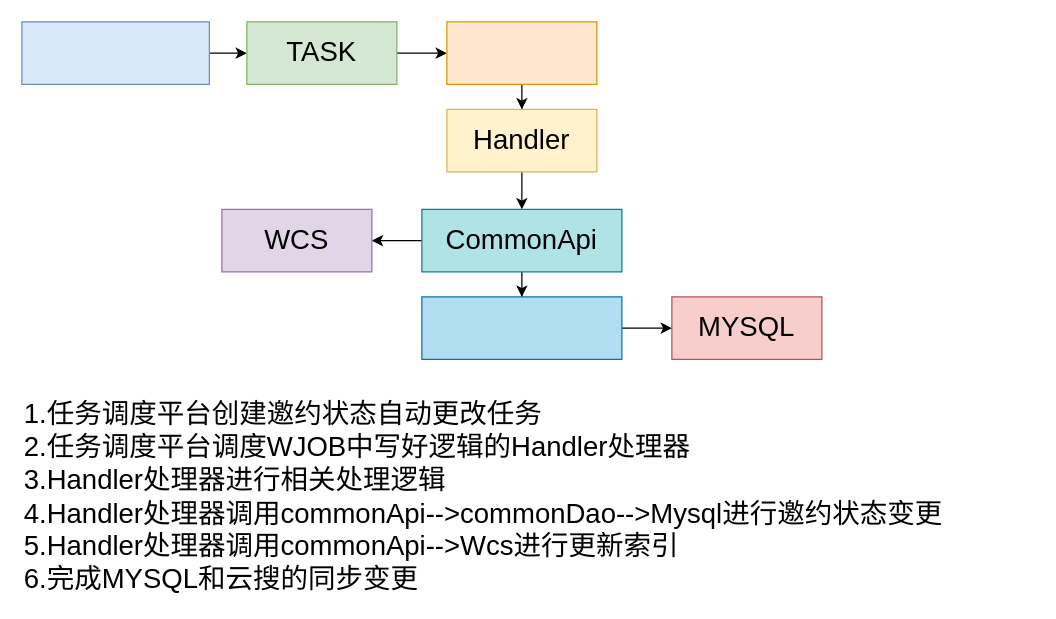
This 1056x619 diagram has some shape labels left out. Here are the shapes that lost their labels. From the top down, the box of each, then its label:
(21, 21, 209, 84): 任务调度平台
(446, 21, 597, 84): WJOB
(421, 296, 622, 359): CommonDao
